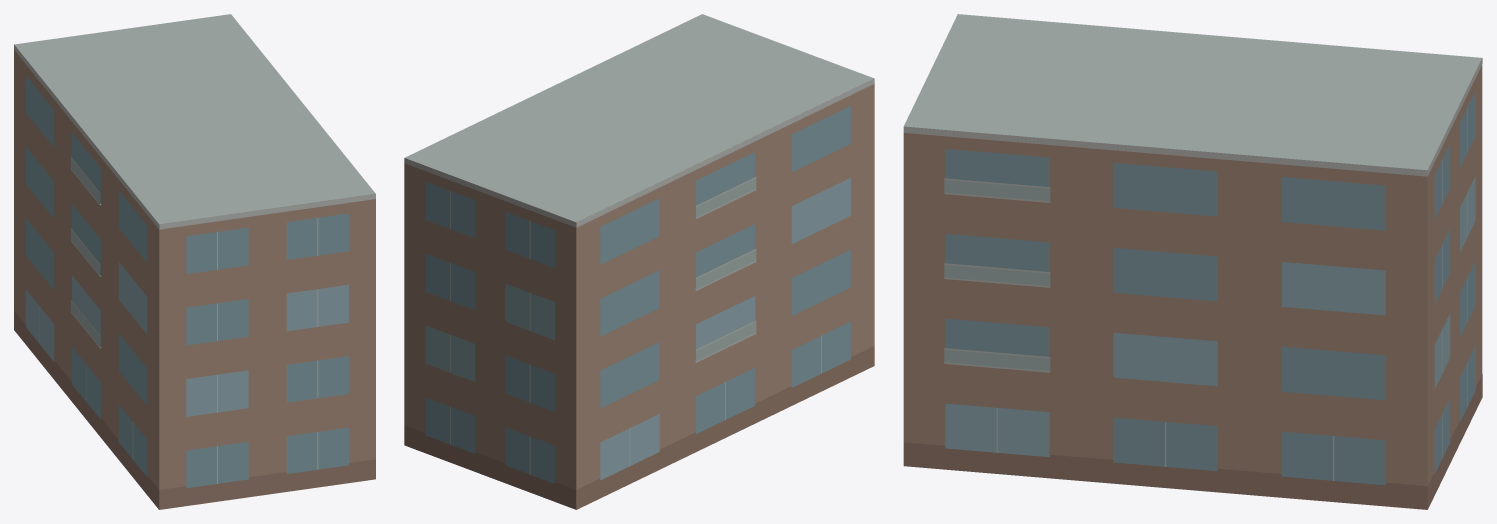
File: survey-upis-32709485.glb
The picture shows the model from 3 angles, left to right: view 1: azimuth 30°, elevation 25°; view 2: azimuth 150°, elevation 25°; view 3: azimuth 270°, elevation 25°; orthographic projection. The views are drawn at different scales.
Visible parts, largest first — view 1: survey-upis-32709485.tmp; view 2: survey-upis-32709485.tmp; view 3: survey-upis-32709485.tmp.
Boxes of the visible parts, <box> form: survey-upis-32709485.tmp: <box>14,14,375,509</box>; survey-upis-32709485.tmp: <box>404,14,874,509</box>; survey-upis-32709485.tmp: <box>903,14,1482,509</box>.
Bounding box in the file's own units: 12.99 × 13.15 × 20.32.
